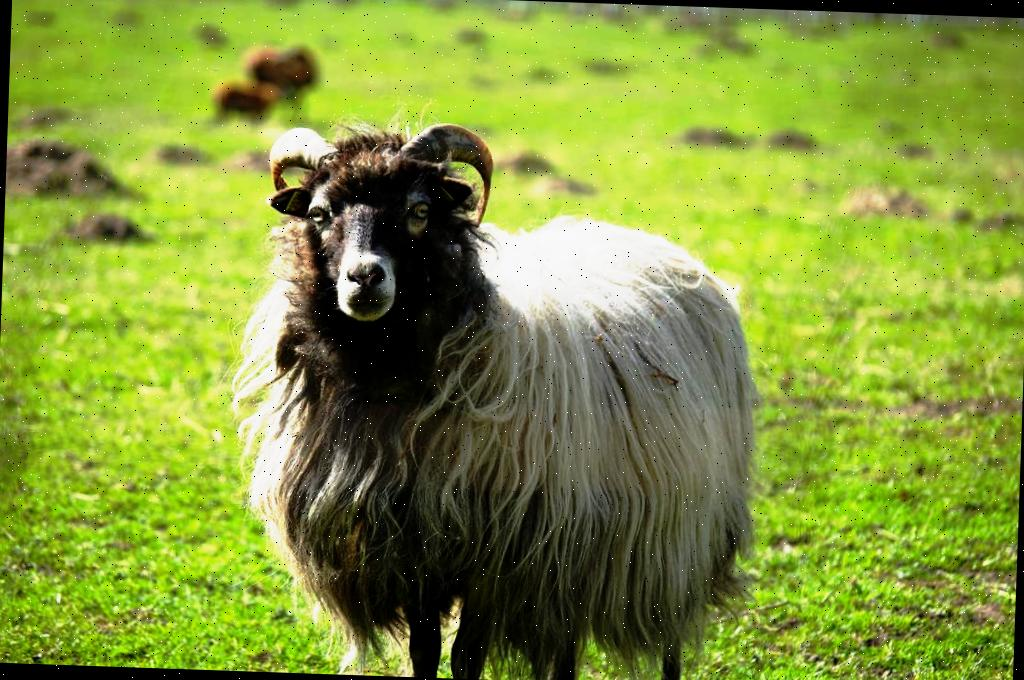Sheep: (207, 92, 767, 680)
